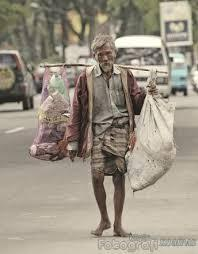pemulung: (26, 32, 179, 241)
